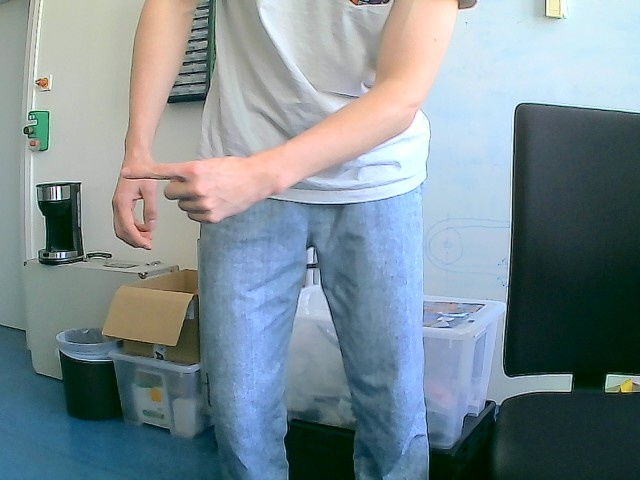no_gesture: (107, 148, 163, 252)
right: (116, 154, 265, 225)
